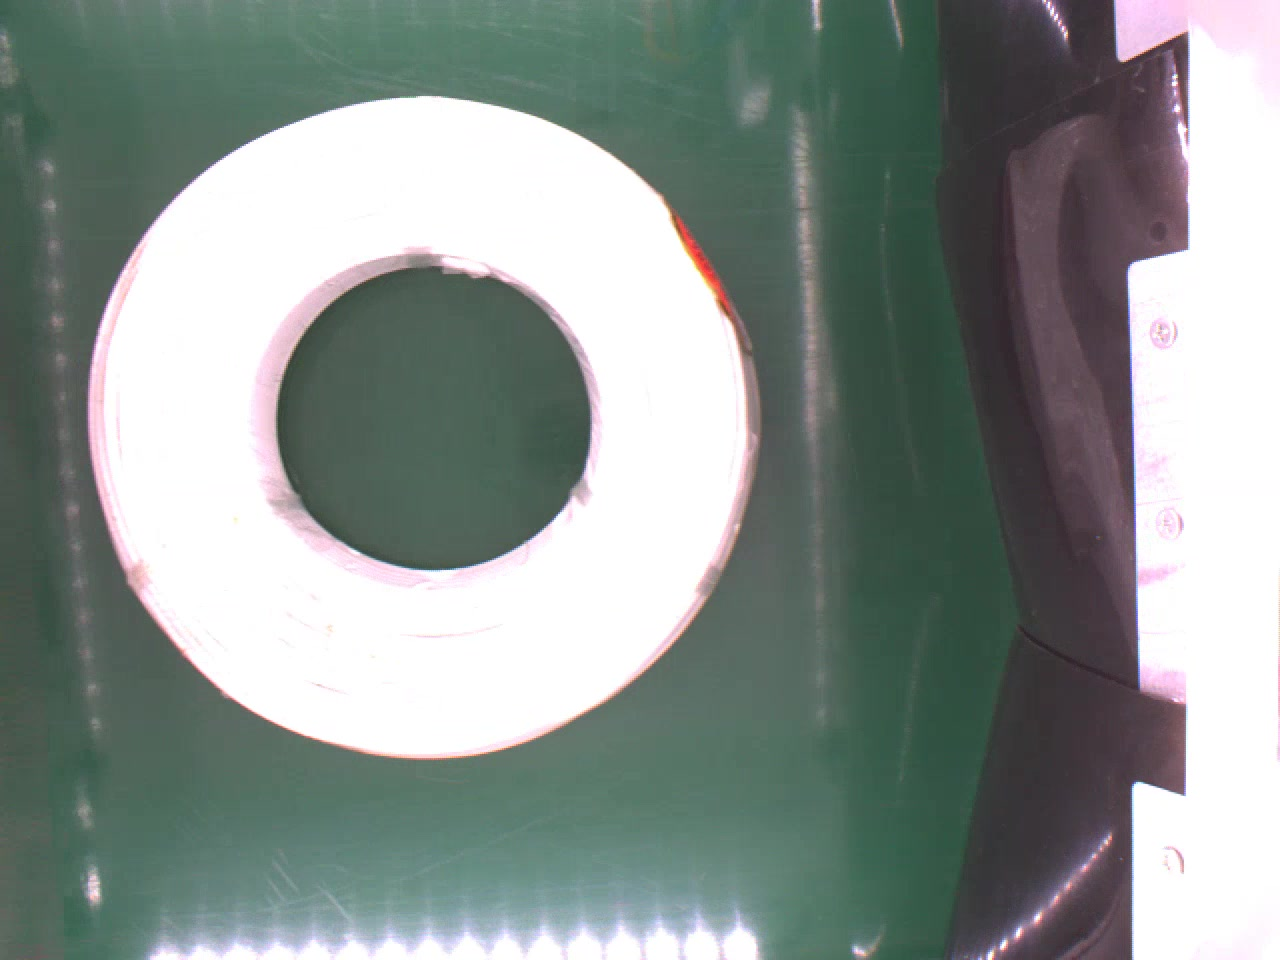white: (85, 92, 776, 767)
